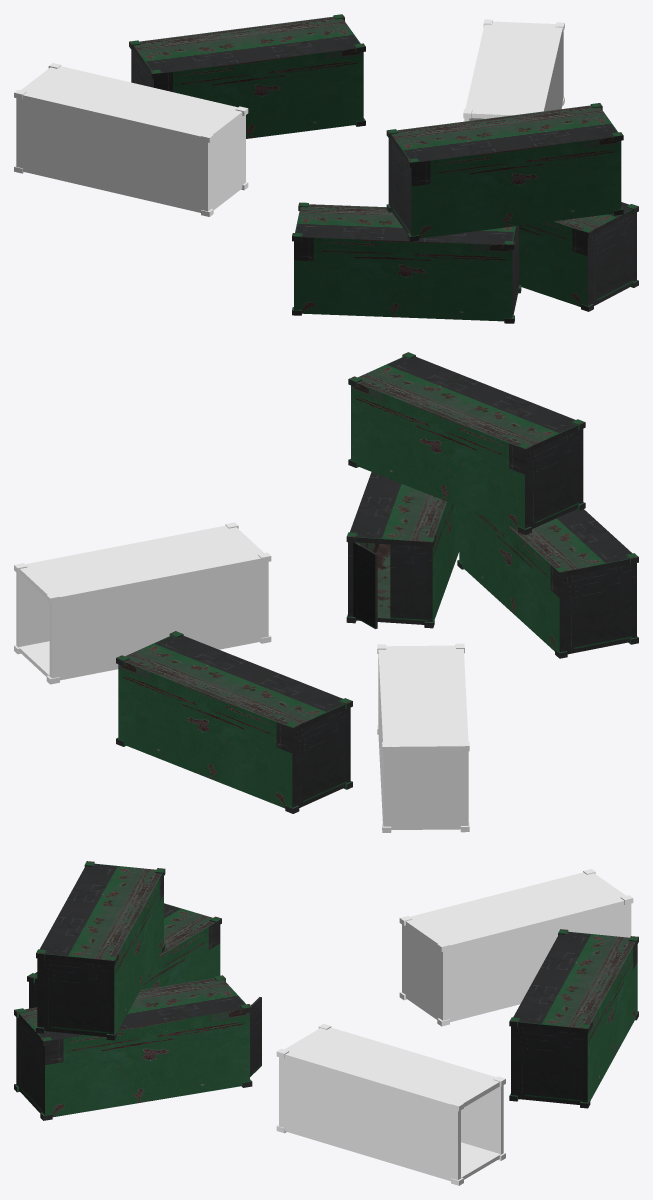
The model's file is Container6_Closed0.fbx.
3 views of the same model, one above another, from view 1: azimuth 30°, elevation 25°; view 2: azimuth 150°, elevation 25°; view 3: azimuth 270°, elevation 25° (orthographic). The views are drawn at different scales.
Visible parts, largest first — view 1: Container6_Closed0; view 2: Container6_Closed0; view 3: Container6_Closed0.
Part boxes in pixels (x1,y1,x2,y2): Container6_Closed0: [14, 14, 638, 323]; Container6_Closed0: [14, 352, 638, 832]; Container6_Closed0: [14, 861, 638, 1185].
Bounding box in the file's own units: 1712 × 1903 × 531.
